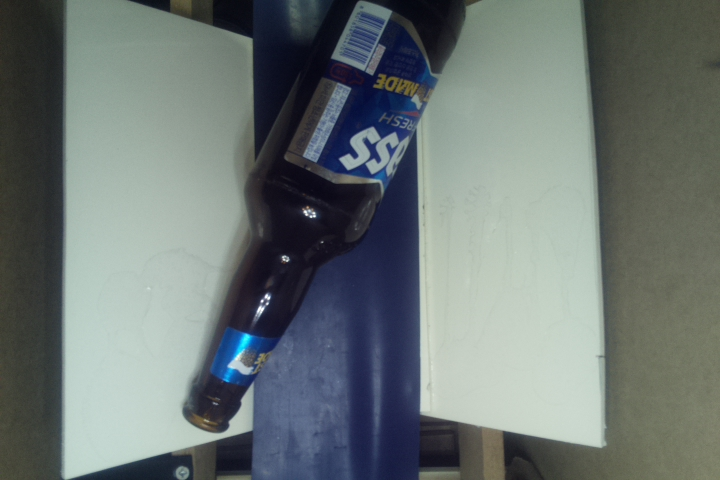makju: (180, 1, 469, 434)
